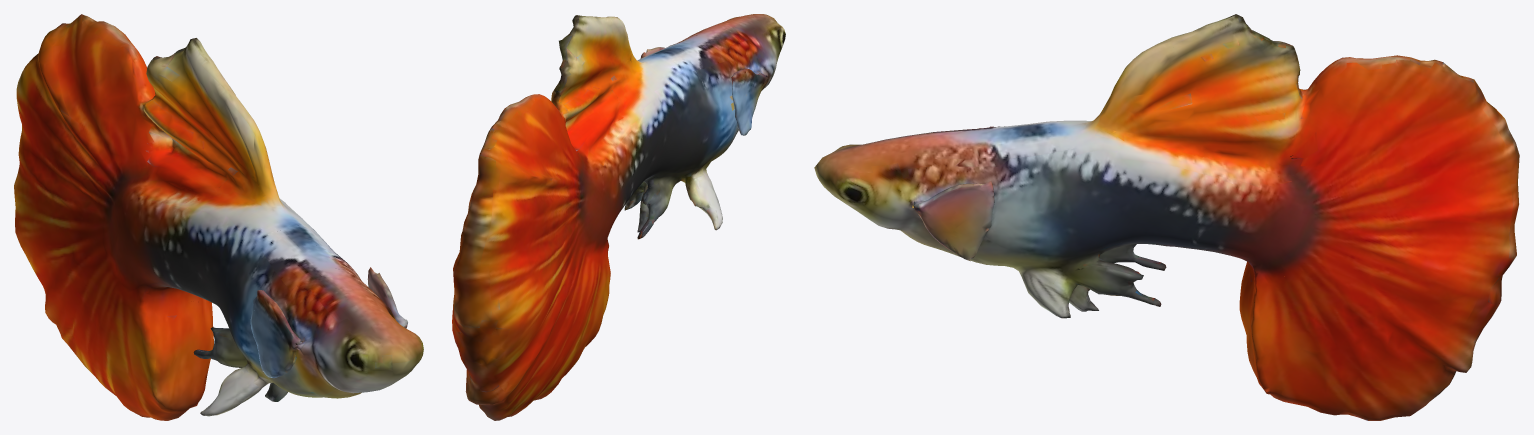
Rendered from strain-tuxedo_red.glb.
3 renders of one model, left to right at view 1: azimuth 30°, elevation 25°; view 2: azimuth 150°, elevation 25°; view 3: azimuth 270°, elevation 25°, orthographic. The views are drawn at different scales.
Visible parts, largest first — view 1: Mesh_0.001; view 2: Mesh_0.001; view 3: Mesh_0.001.
Part boxes in pixels (x1,y1,x2,y2): Mesh_0.001: [14, 14, 423, 420]; Mesh_0.001: [452, 14, 785, 420]; Mesh_0.001: [814, 14, 1519, 420].
Bounding box in the file's own units: 0.00698 × 0.0209 × 0.0332.
2 materials, 2 textured.
